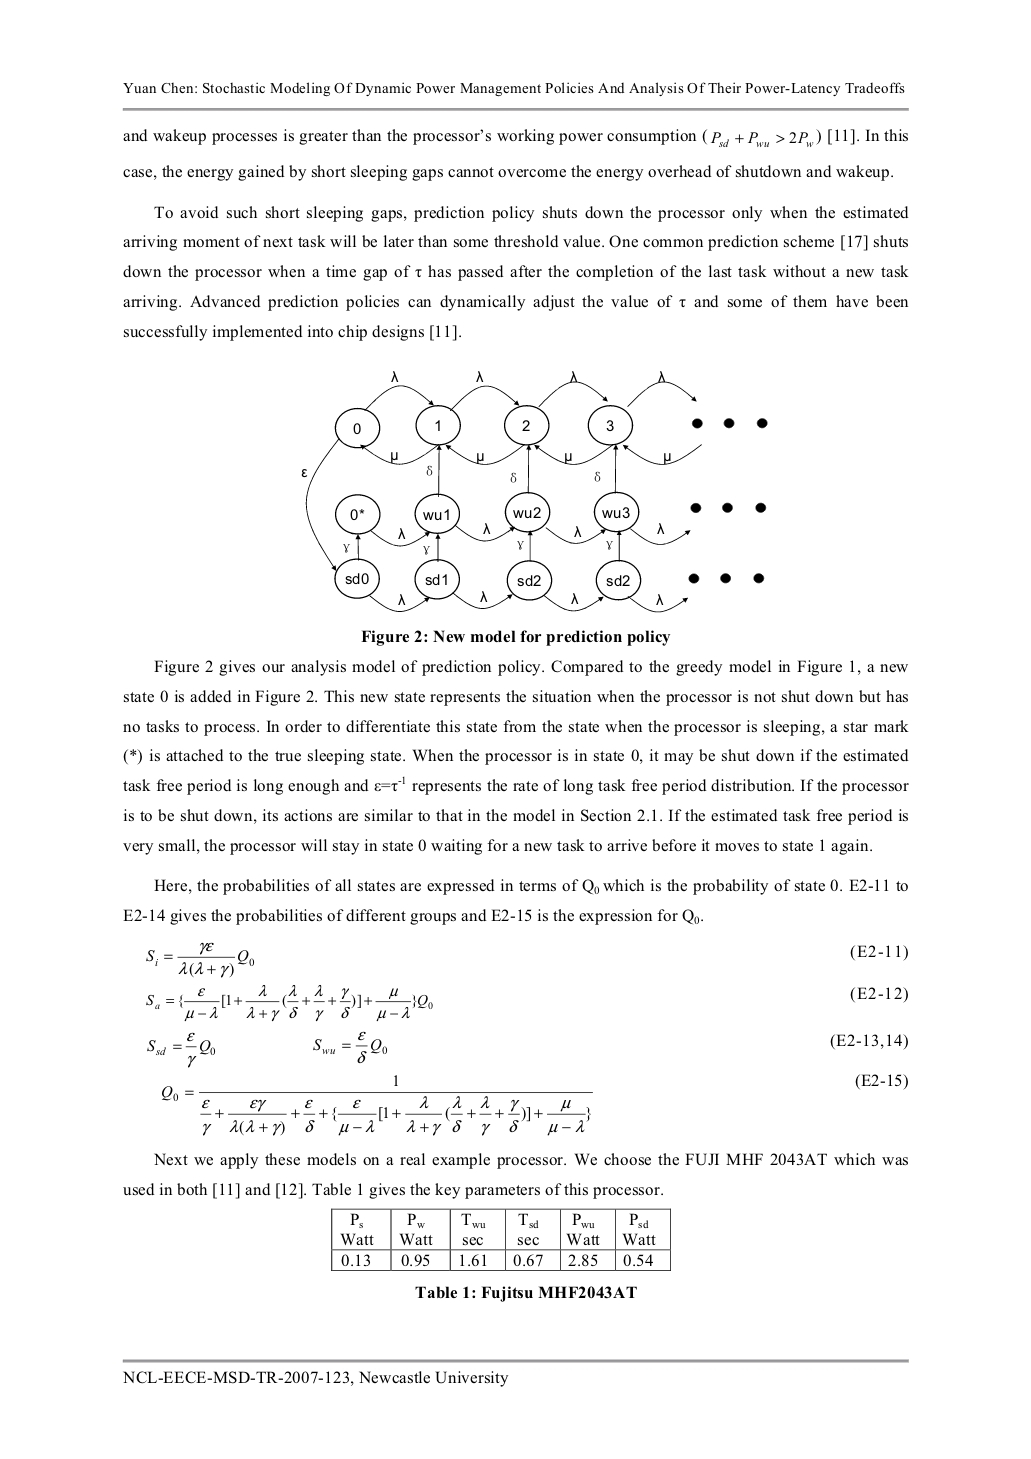Table: (331, 1207, 669, 1270)
figure: (301, 370, 767, 613), (122, 1357, 908, 1363), (122, 107, 908, 112)
formula: (162, 1072, 907, 1136), (146, 984, 907, 1022), (147, 1030, 907, 1067), (146, 941, 907, 978)
